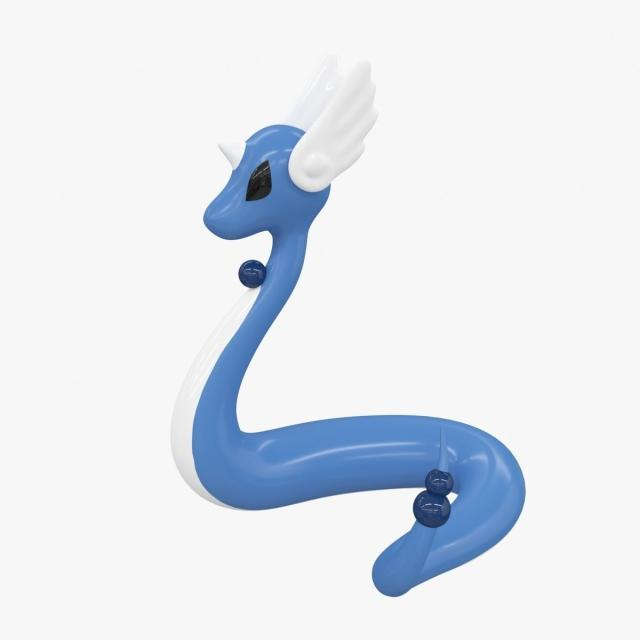Dragonair: (168, 66, 523, 597)
